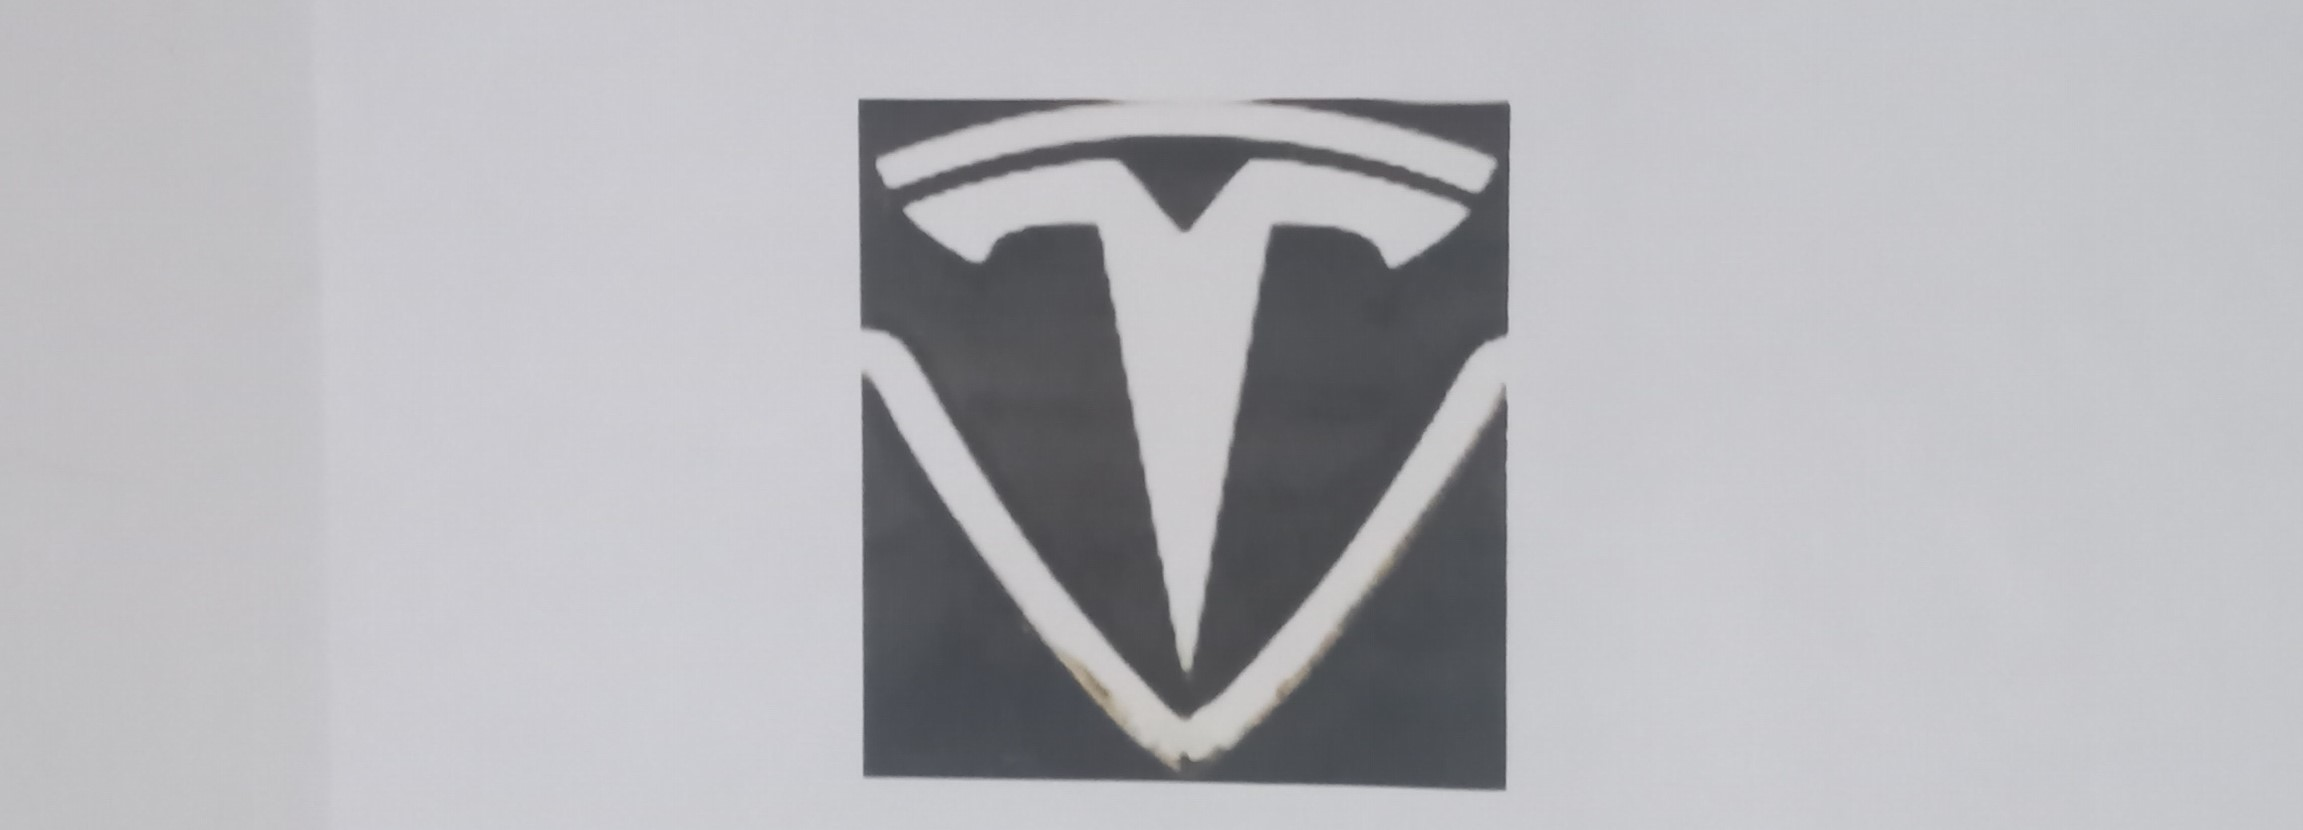Tesla: (855, 100, 1522, 770)
